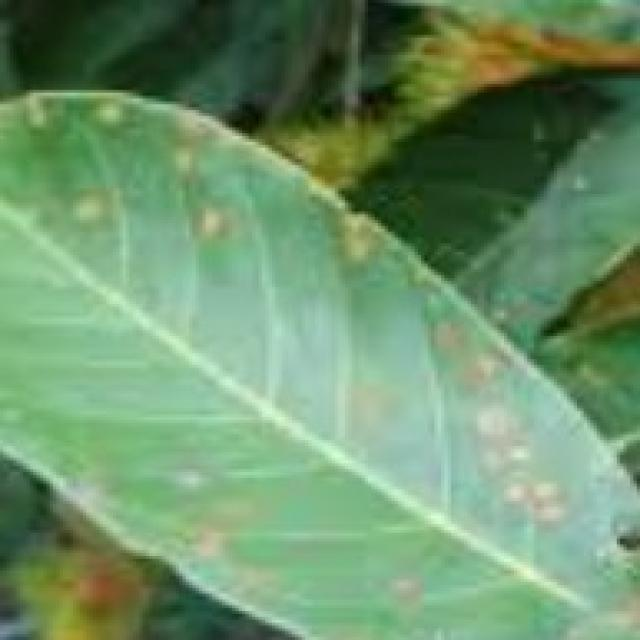Algal Leaf Spot: (470, 402, 580, 548), (330, 205, 392, 311), (180, 193, 274, 249), (428, 306, 476, 368), (175, 143, 216, 183)
